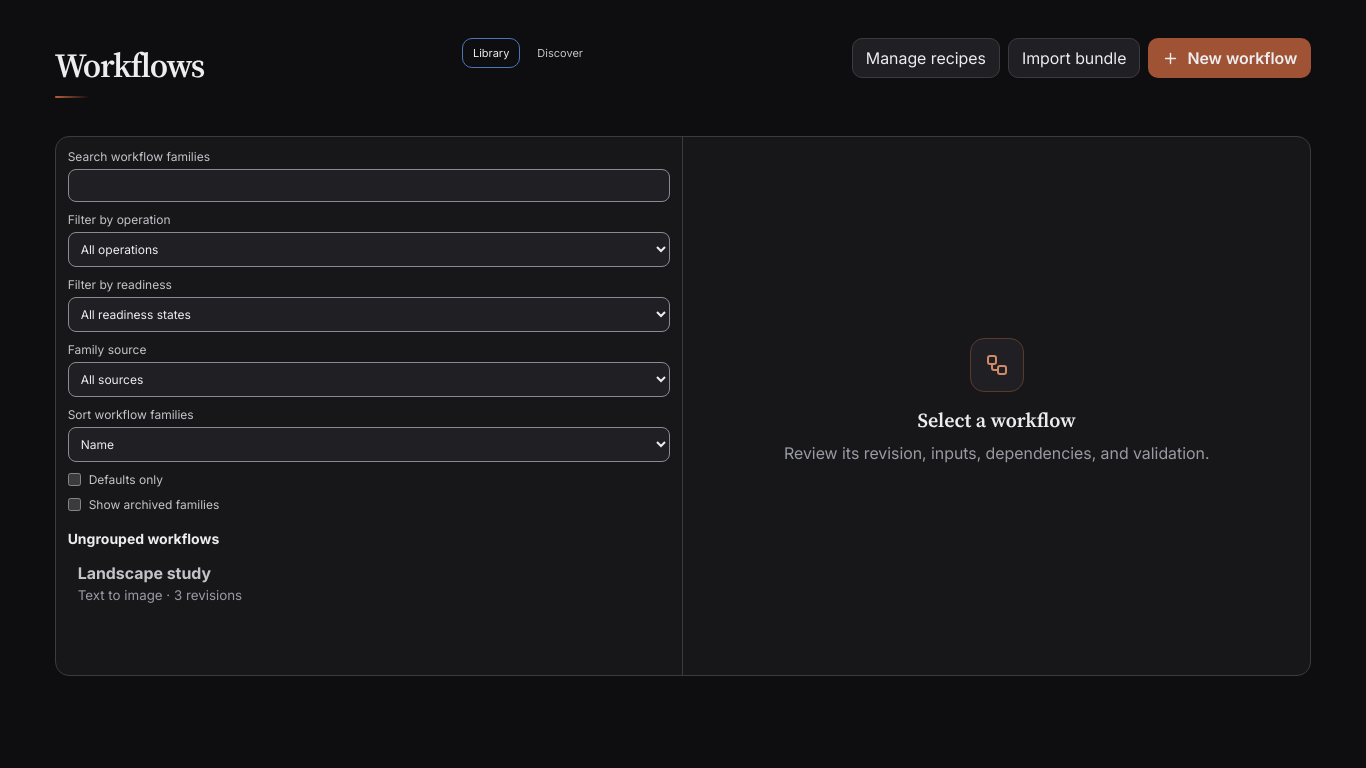
Test: workflow revision history › inspects a historical revision without restoring it or changing the current revision
Step 1. Click the text "Landscape study" → (144,573), box [78,563,211,583]
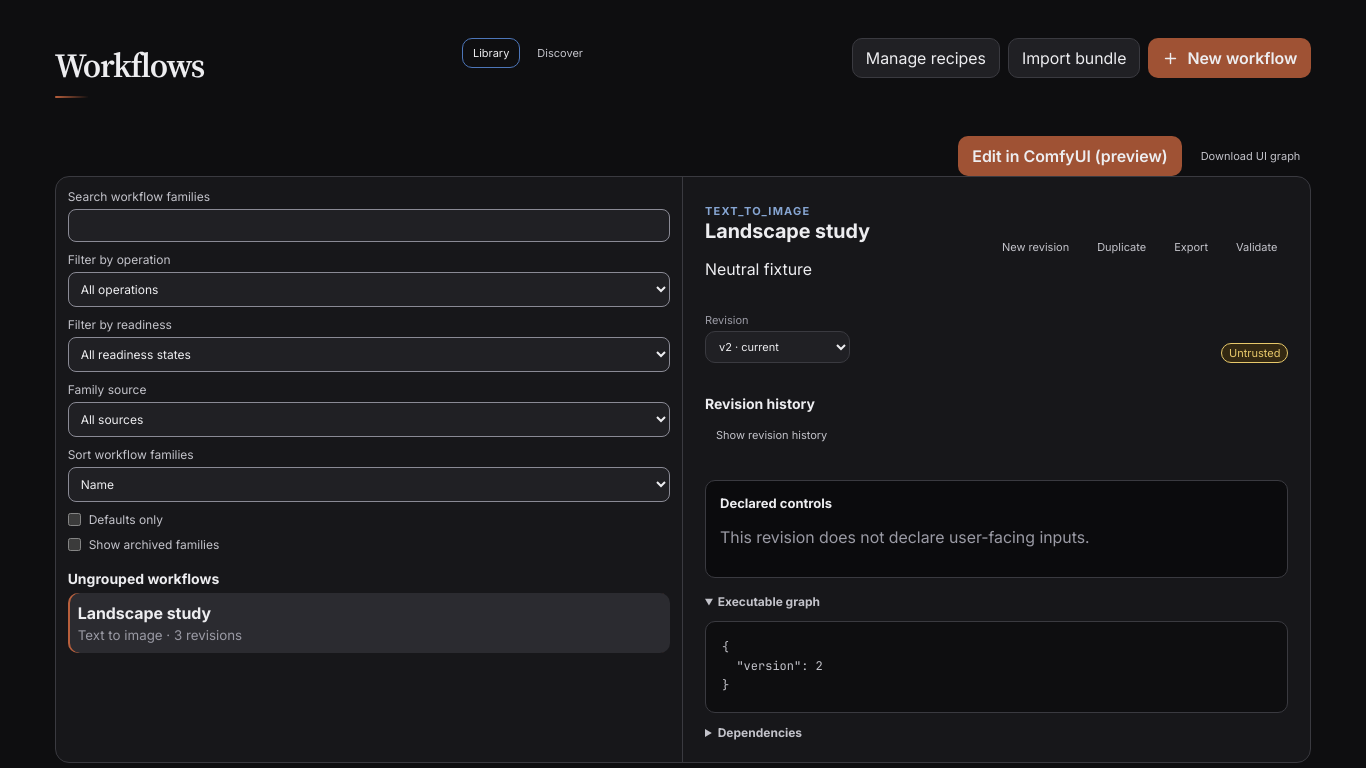
Result: the button "New revision" is shown at [991,232,1080,262]
Step 2. Click the button "Show revision history" → (772,435), box [705,420,838,450]
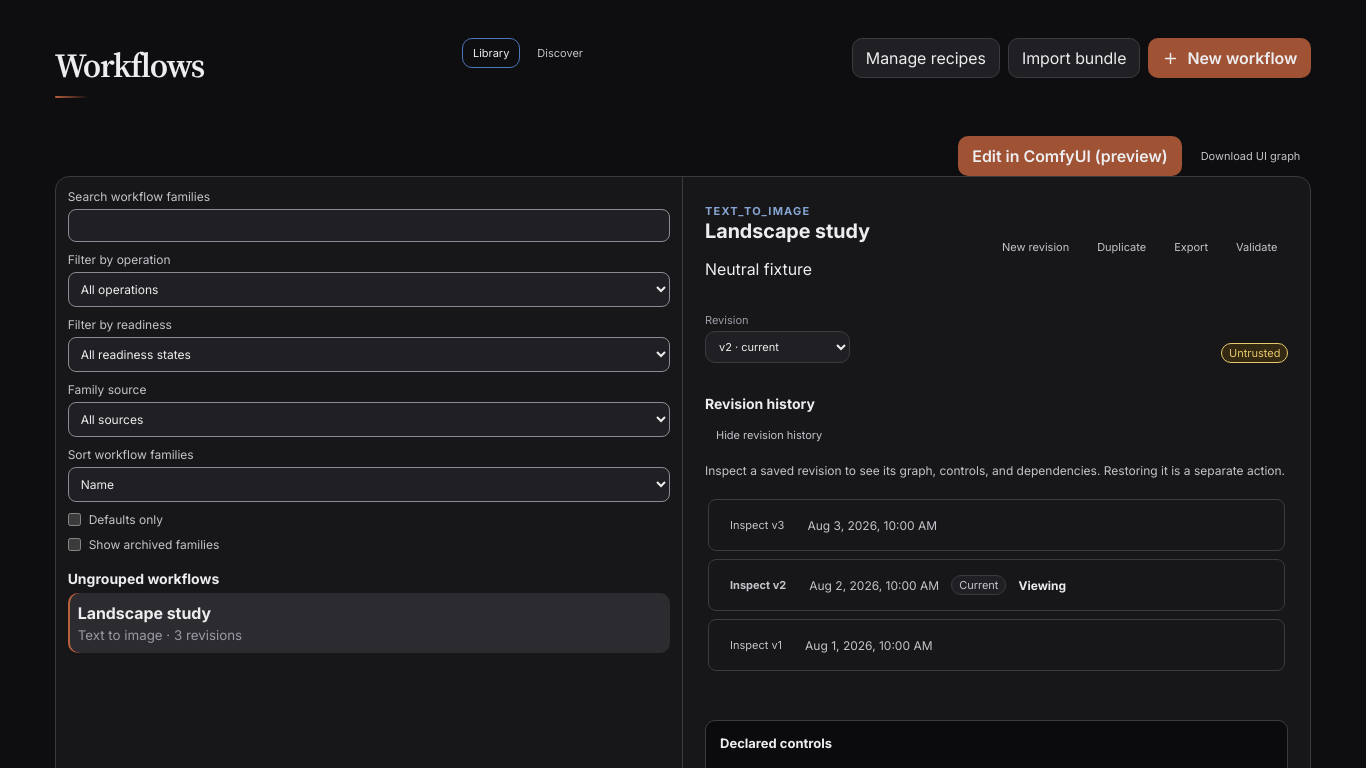
Step 3. Click the button "Inspect v1" → (756,645), box [719,630,793,660]
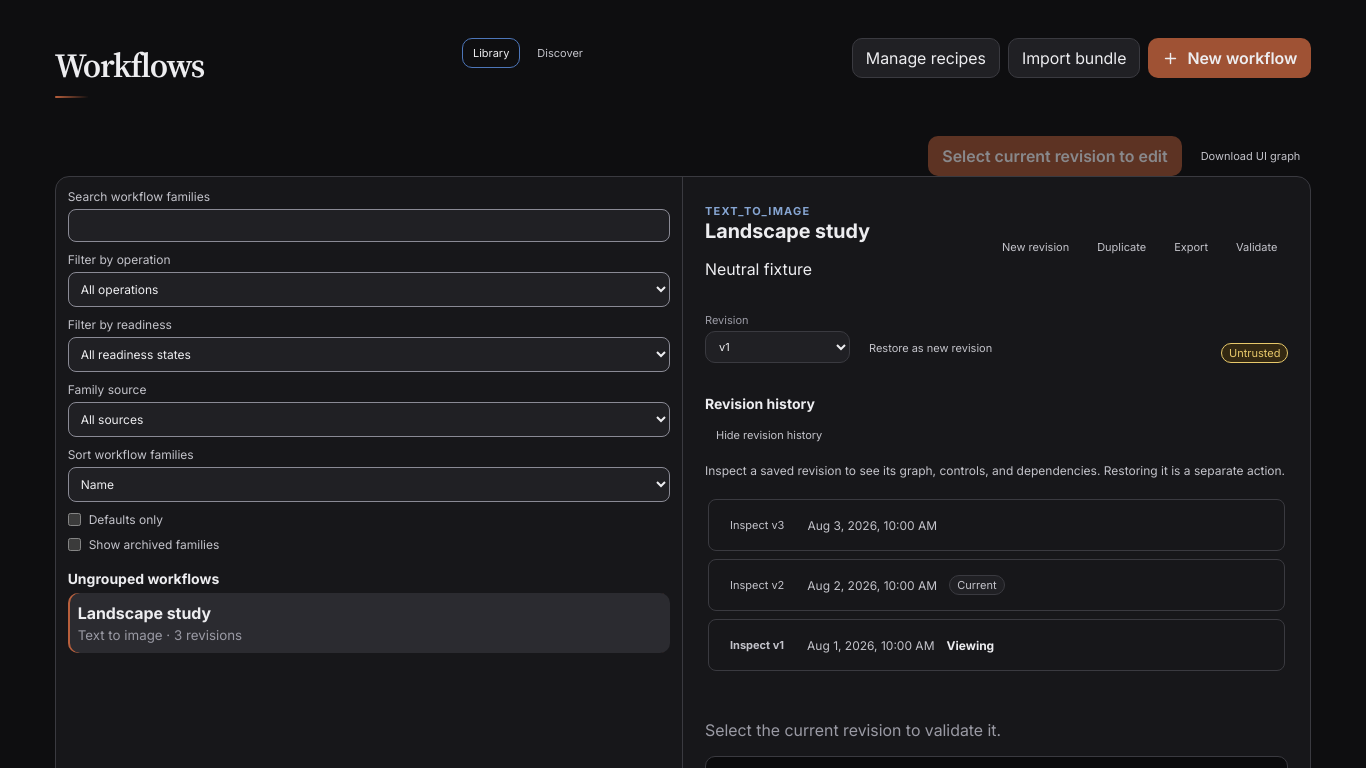
Result: the text "Current" is shown at [949,575,1004,595]
Result: the dropdown labelled "Revision" shows "v1" at [705,331,850,363]
Result: the button "Restore as new revision" is shown at [858,333,1003,363]
